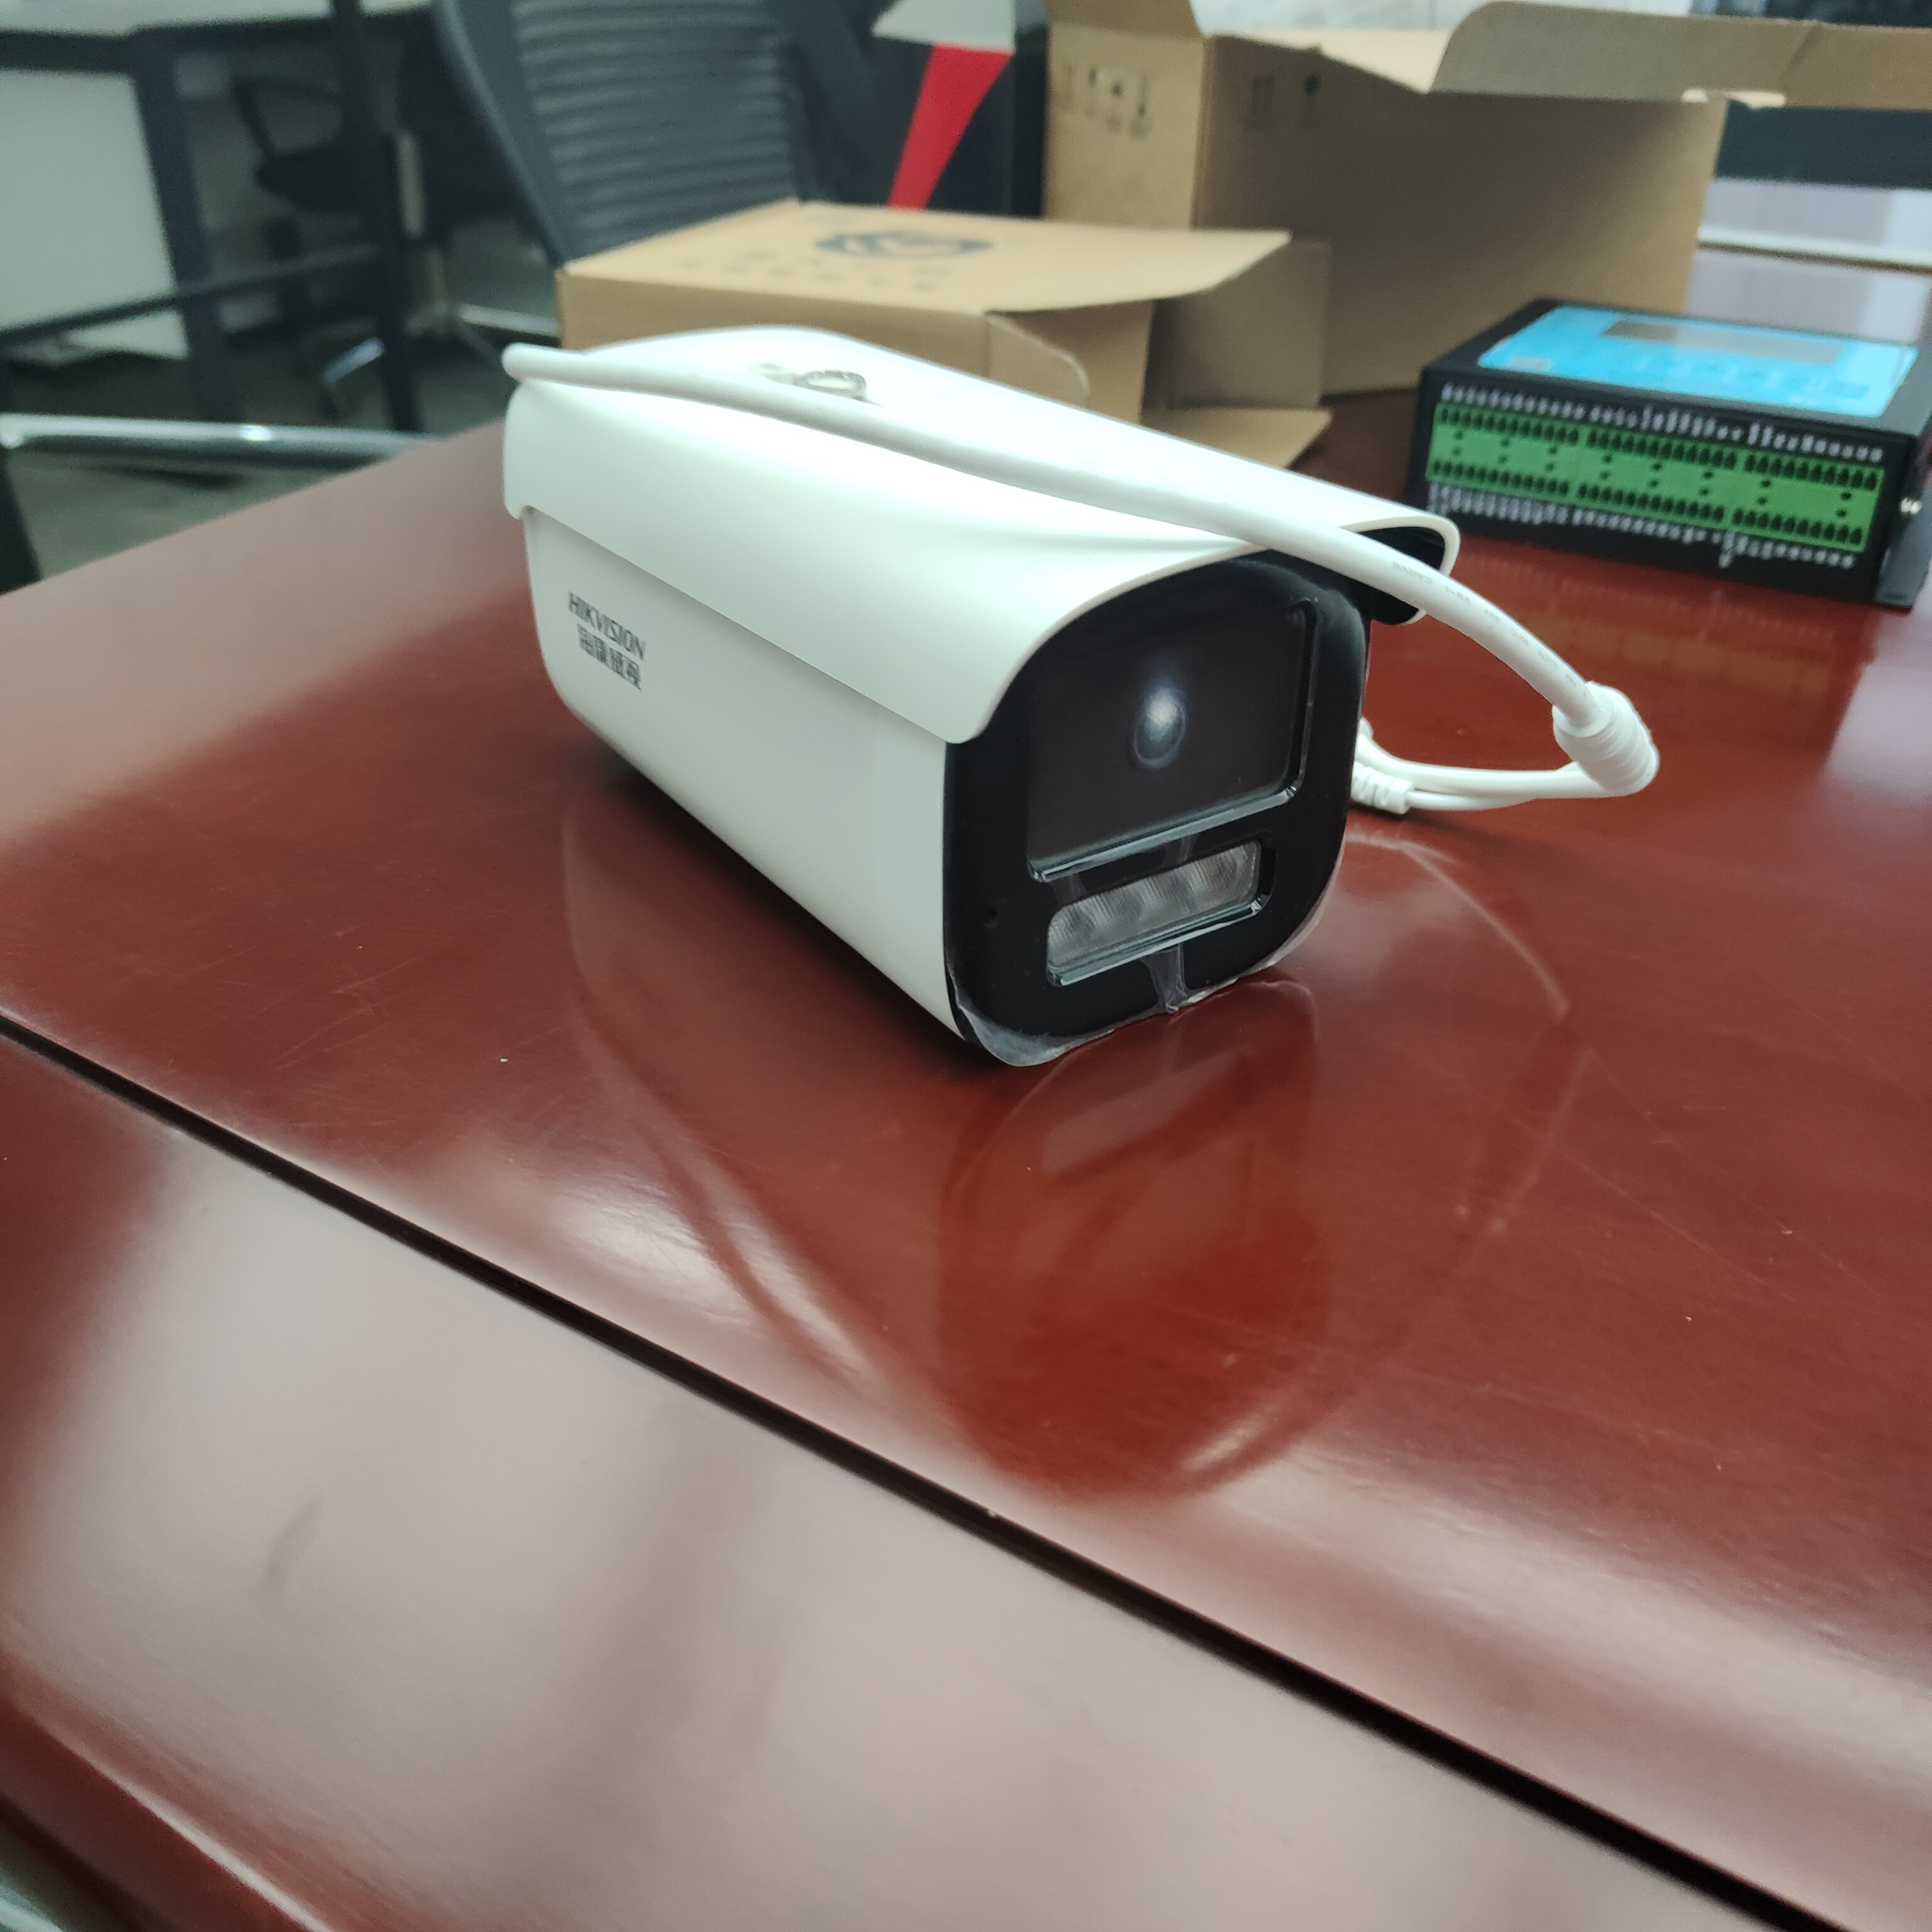hkws: (472, 315, 1453, 1088)
slyczd: (1415, 276, 1913, 616)
